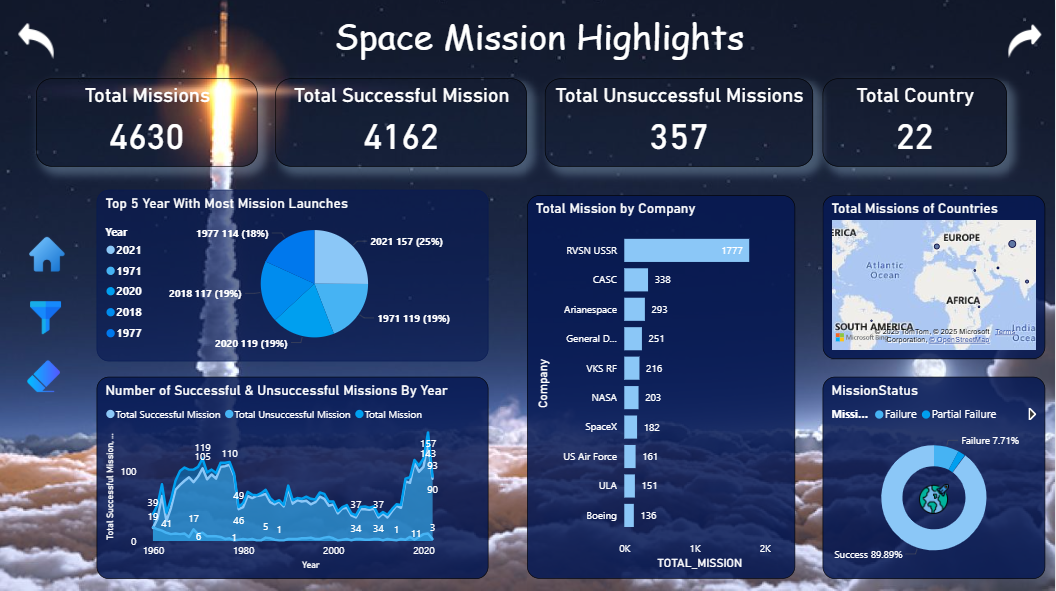

This screenshot's page, from the dashboard's own definition file:
{"tool":"powerbi","page":{"name":"Page 1","canvas":[1280,720],"ordinal":1},"visuals":[{"type":"card","title":"Total Missions","fields":{"Values":["space_missions.TOTAL_MISSION"]},"box":[45,95,268.3,106.7],"z":0},{"type":"card","title":"Total Successful Mission","fields":{"Values":["space_missions.Success_count"]},"box":[335,95,305,106.7],"z":1000},{"type":"card","title":"Total Unsuccessful Missions","fields":{"Values":["space_missions.failure_count"]},"box":[661.7,95,325,106.7],"z":2000},{"type":"card","title":"Total Country","fields":{"Values":["Count(space_missions.Country)"]},"box":[998.3,95,223.3,106.7],"z":3000},{"type":"pieChart","title":"Top 5 Year With Most Mission Launches","fields":{"Category":["space_missions.Year"],"Y":["CountNonNull(space_missions.Mission)"]},"box":[118.3,230,475,208.3],"z":4000},{"type":"areaChart","title":"Number of Successful & Unsuccessful Missions By Year","fields":{"Category":["space_missions.Year"],"Y":["space_missions.Success_count","space_missions.failure_count","space_missions.TOTAL_MISSION"]},"box":[118.3,456.7,475,245],"z":5000},{"type":"barChart","title":"Total Mission by Company","fields":{"Y":["space_missions.TOTAL_MISSION"],"Category":["space_missions.Company"]},"box":[640,236.7,325,465],"z":6000},{"type":"image","box":[17.7,22.6,53.2,53.2],"z":7000},{"type":"image","box":[1218.5,22.6,50,53.2],"z":8000},{"type":"textbox","title":"Space Mission Highlights","box":[401.7,13.3,520,63.3],"z":9000},{"type":"image","box":[30,360,53.3,50],"z":10000},{"type":"image","box":[25,428.3,58.3,55],"z":11000},{"type":"image","box":[24.2,282.1,66.1,53.2],"z":12000},{"type":"map","title":"Total Missions of Countries ","fields":{"Category":["space_missions.Country"],"Size":["space_missions.TOTAL_MISSION"]},"box":[998.3,236.7,270,198.3],"z":15000},{"type":"donutChart","title":"MissionStatus","fields":{"Category":["space_missions.MissionStatus"],"Y":["CountNonNull(space_missions.Mission)"]},"box":[998.3,456.7,270,245],"z":16000},{"type":"image","box":[1110,580,46.7,50],"z":17000}]}

Visuals, with their boxes in screenshot pixels (x1, y1, x2, y2), scaled from the page's 1280x720 canvas onto the 1056x591 screenshot:
"Total Missions" card: 37:78:258:166
"Total Successful Mission" card: 276:78:528:166
"Total Unsuccessful Missions" card: 546:78:814:166
"Total Country" card: 824:78:1008:166
"Top 5 Year With Most Mission Launches" pieChart: 98:189:489:360
"Number of Successful & Unsuccessful Missions By Year" areaChart: 98:375:489:576
"Total Mission by Company" barChart: 528:194:796:576
image: 15:19:58:62
image: 1005:19:1047:62
"Space Mission Highlights" textbox: 331:11:760:63
image: 25:296:69:337
image: 21:352:69:397
image: 20:232:74:275
"Total Missions of Countries " map: 824:194:1046:357
"MissionStatus" donutChart: 824:375:1046:576
image: 916:476:954:517
